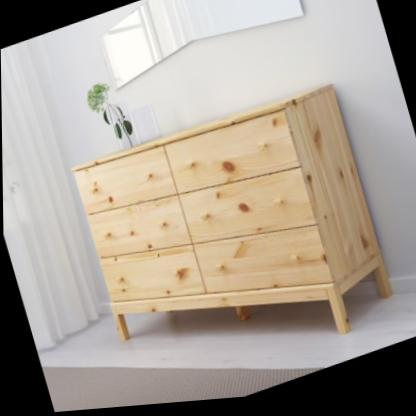Curtains: (0, 30, 123, 356)
Sideboard: (65, 76, 402, 412)
